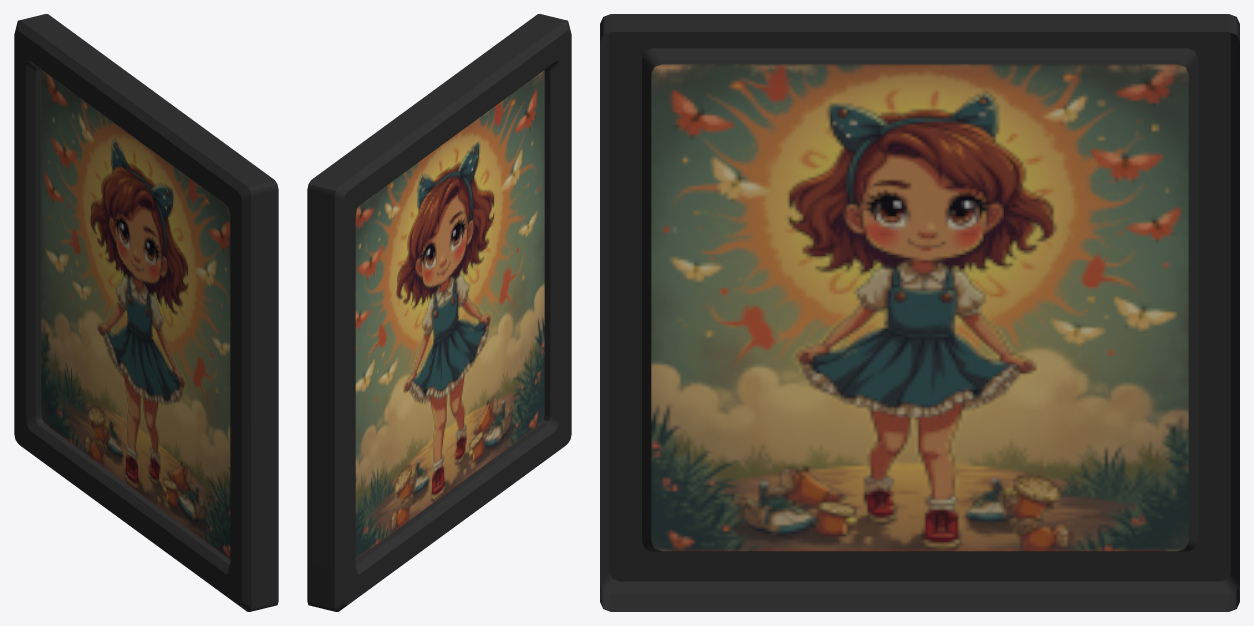
Rendered from SM_Frame15.fbx.
The picture shows the model from 3 angles, left to right: view 1: azimuth 30°, elevation 25°; view 2: azimuth 150°, elevation 25°; view 3: azimuth 270°, elevation 25°; orthographic projection. The views are drawn at different scales.
Parts seen in each view (by area): view 1: SM_Frame15_LOD0; view 2: SM_Frame15_LOD0; view 3: SM_Frame15_LOD0.
Boxes of the visible parts, x1=… form: SM_Frame15_LOD0: x1=14, y1=14, x2=278, y2=611; SM_Frame15_LOD0: x1=307, y1=14, x2=571, y2=611; SM_Frame15_LOD0: x1=600, y1=14, x2=1239, y2=611.
Size of the model in its own units: 4.08 by 50 by 50.
Materials: 1 (1 with a texture image).
